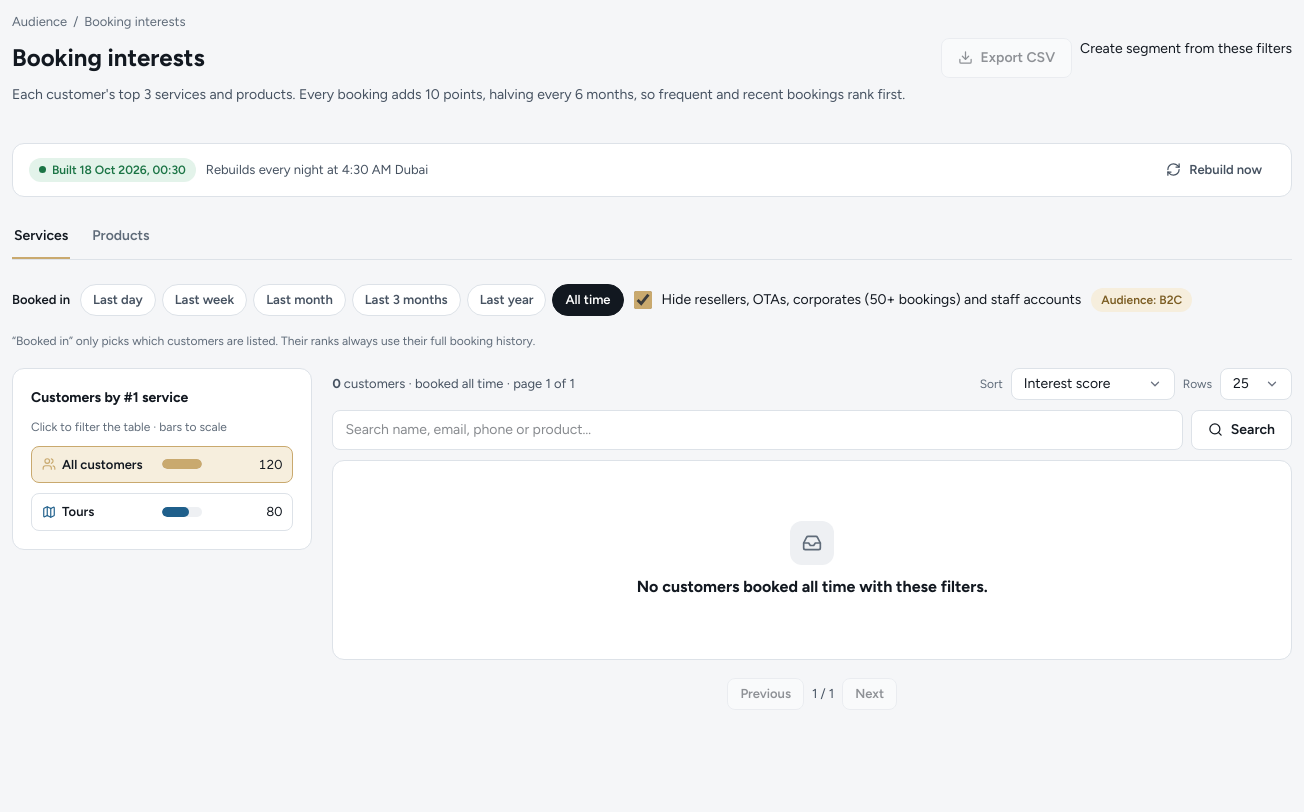
Test: Affinity page › no "Show all" button when the top list already holds every product
This screenshot has width=1304, height=812.
expect the heading "No customers booked all time with these filters." is shown: met, box [637, 574, 988, 598]
Step 1. Click the tab "Products" → [121, 236], box [90, 214, 152, 258]
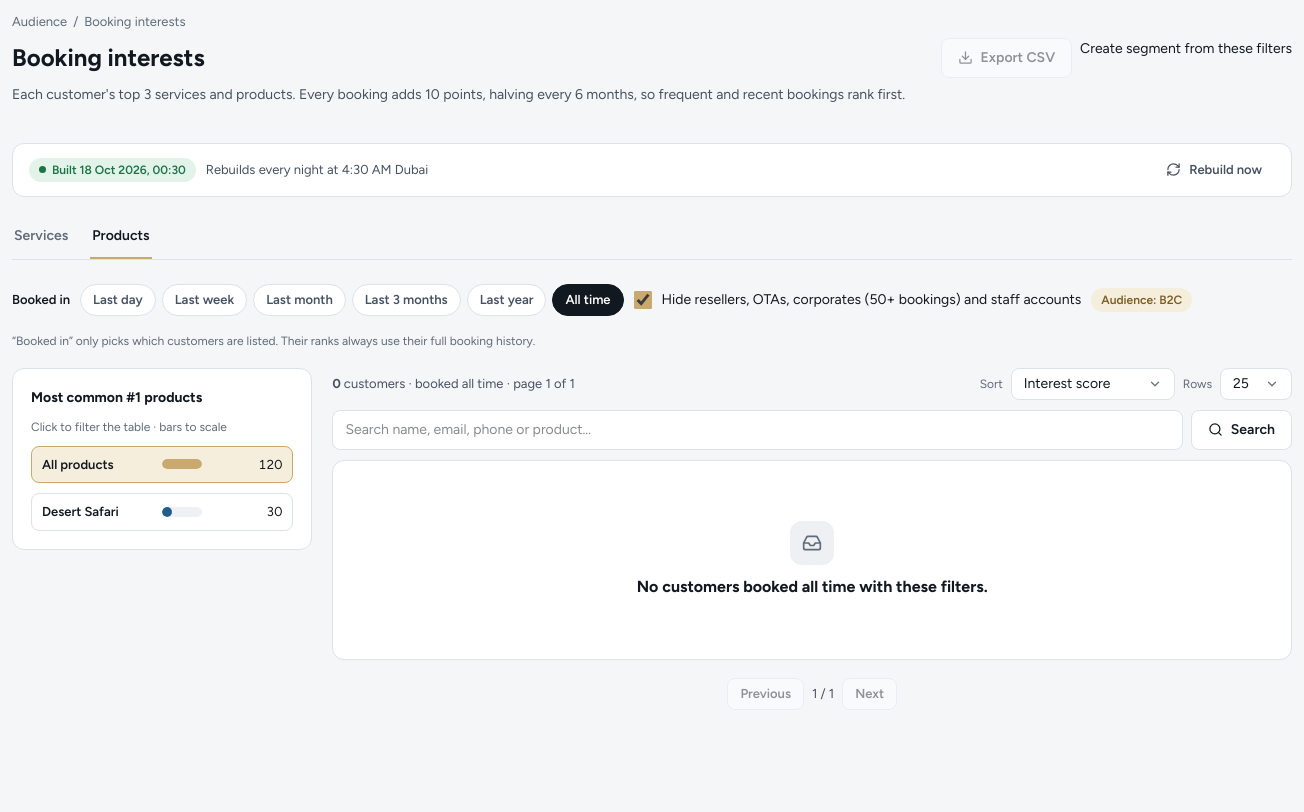
expect the text "Desert Safari" is shown: met, box [42, 502, 119, 522]
